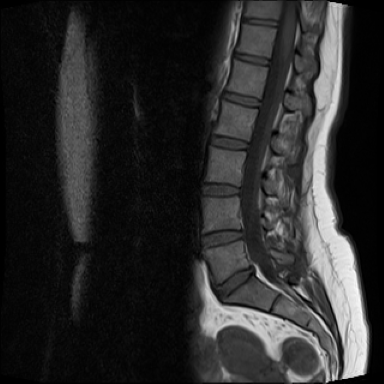Degenerative Disc Disease (DDD): (238, 15, 282, 29)
Lumbar Disc Bulge (LDB): (201, 260, 258, 307)
Normal IVD: (191, 225, 246, 251), (212, 87, 264, 113), (198, 130, 250, 155), (192, 178, 242, 201), (227, 47, 273, 69)
Spinal Stenosis (SS): (243, 256, 257, 286)
